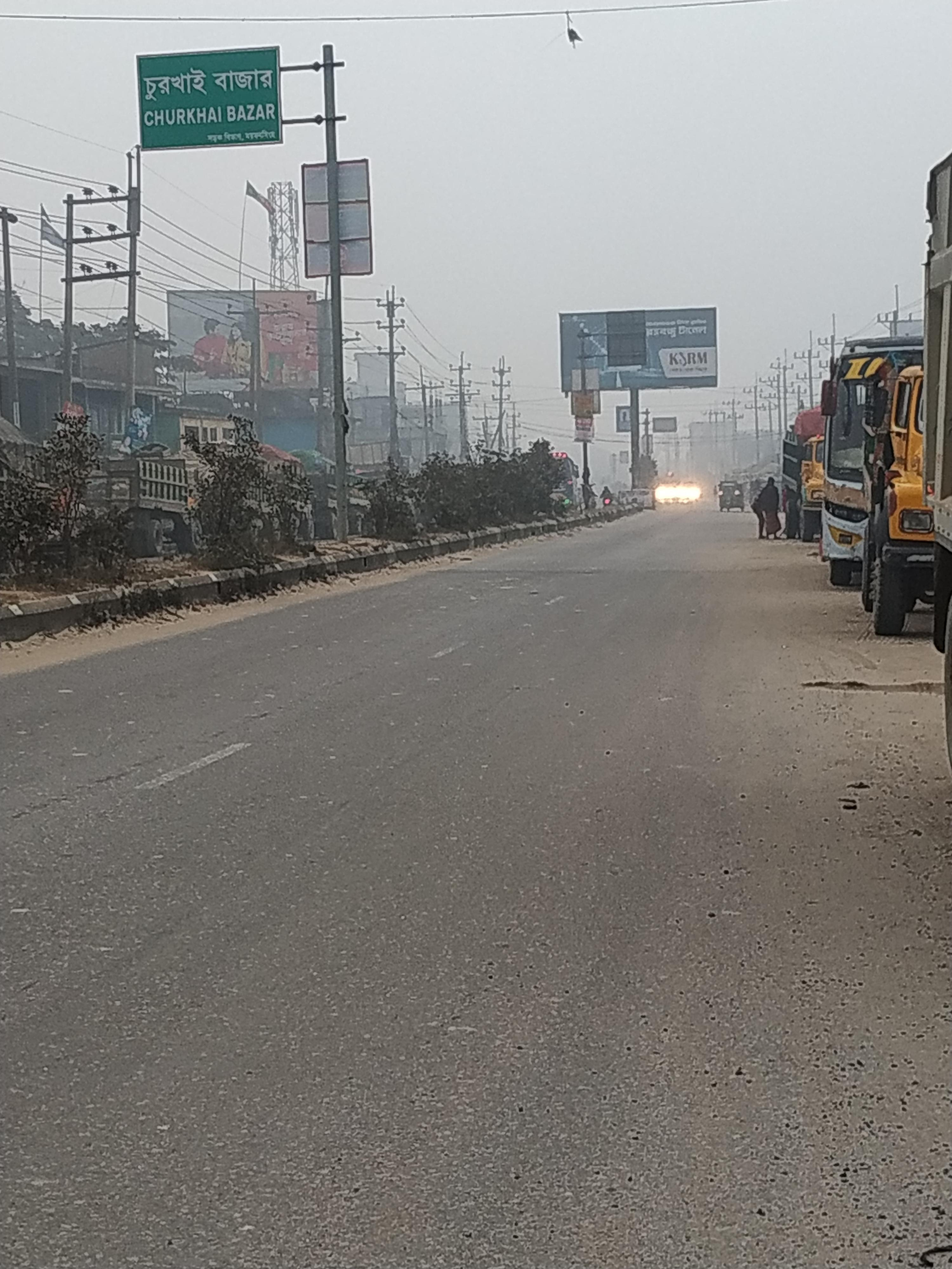Bus: (822, 326, 908, 597)
